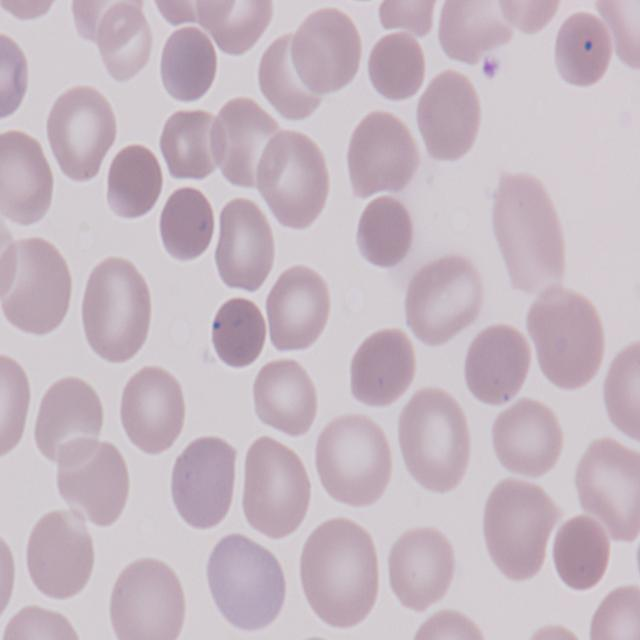RBC: (295, 516, 383, 634), (490, 171, 570, 292), (203, 528, 290, 638), (73, 248, 154, 364), (392, 387, 474, 497), (525, 284, 605, 391), (252, 127, 334, 230), (315, 408, 396, 511), (399, 253, 487, 347), (238, 436, 312, 544), (477, 478, 555, 580), (0, 236, 74, 338), (342, 106, 420, 202), (288, 5, 364, 102), (571, 436, 640, 542), (44, 84, 120, 180), (22, 511, 98, 606), (106, 554, 189, 640), (168, 436, 239, 535), (412, 66, 482, 165), (383, 526, 459, 616), (118, 360, 188, 456), (211, 197, 278, 296), (490, 394, 564, 482), (462, 320, 534, 409), (265, 260, 333, 353), (34, 372, 108, 454), (0, 125, 56, 229), (347, 327, 415, 412), (249, 358, 316, 438), (548, 8, 612, 88), (154, 107, 220, 183), (104, 138, 164, 220), (366, 31, 428, 107), (600, 334, 640, 443), (0, 348, 31, 466), (590, 579, 640, 640), (1, 605, 83, 640), (402, 609, 492, 640), (0, 27, 27, 128), (496, 0, 566, 37), (0, 523, 20, 624), (0, 0, 66, 23)
Spherocyte: (155, 22, 218, 107), (154, 183, 216, 267), (551, 513, 612, 590), (354, 194, 414, 270), (208, 295, 266, 367)
